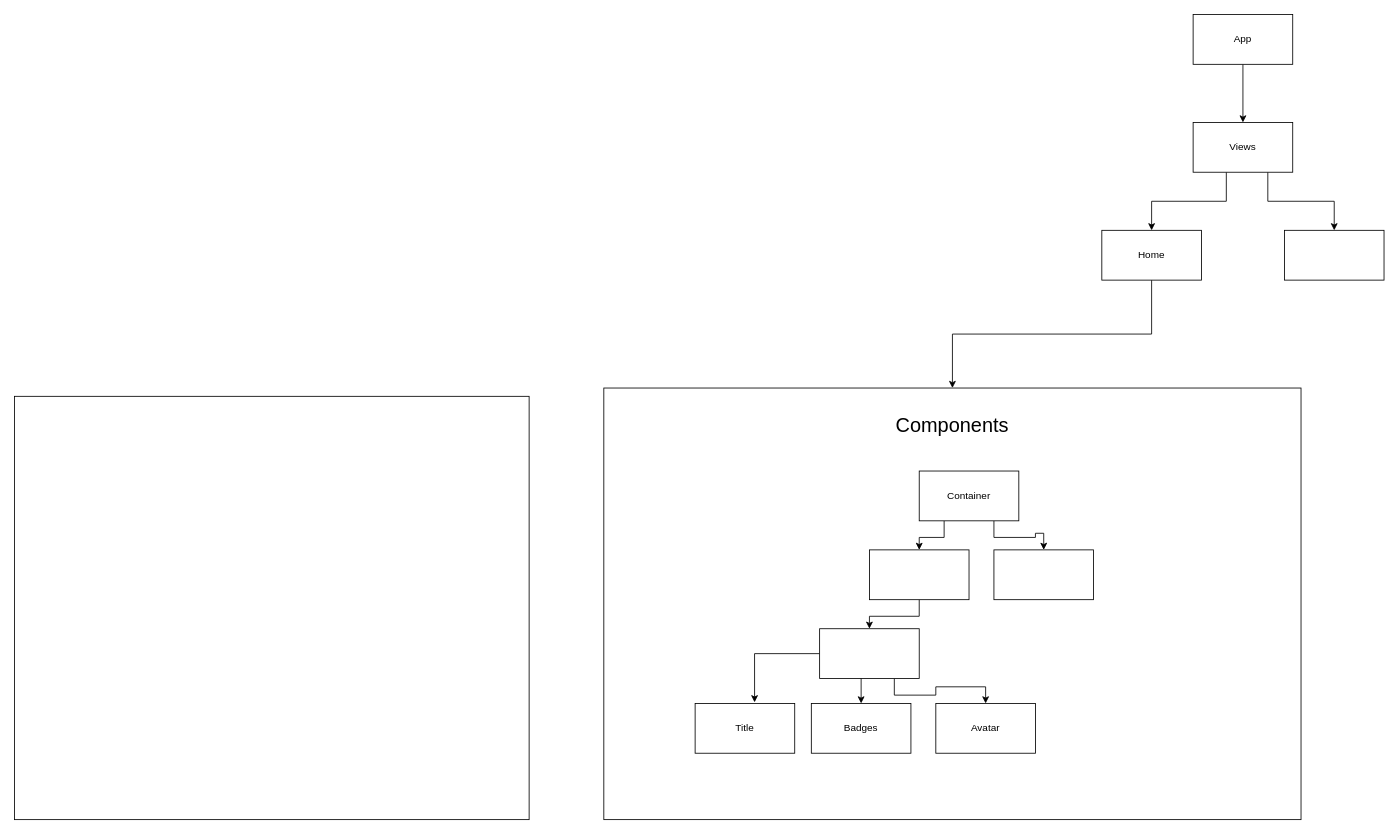
Image size: 1399x834. Some labels were removed from this diagram. The shapes that lost their labels are listed below. From the top down, each one's box as (x1, y1, x2, y2) in pixels, then its label:
(1284, 229, 1384, 280): Details
(869, 549, 969, 600): CardList
(993, 549, 1094, 600): OrderBy
(819, 628, 919, 679): Card
